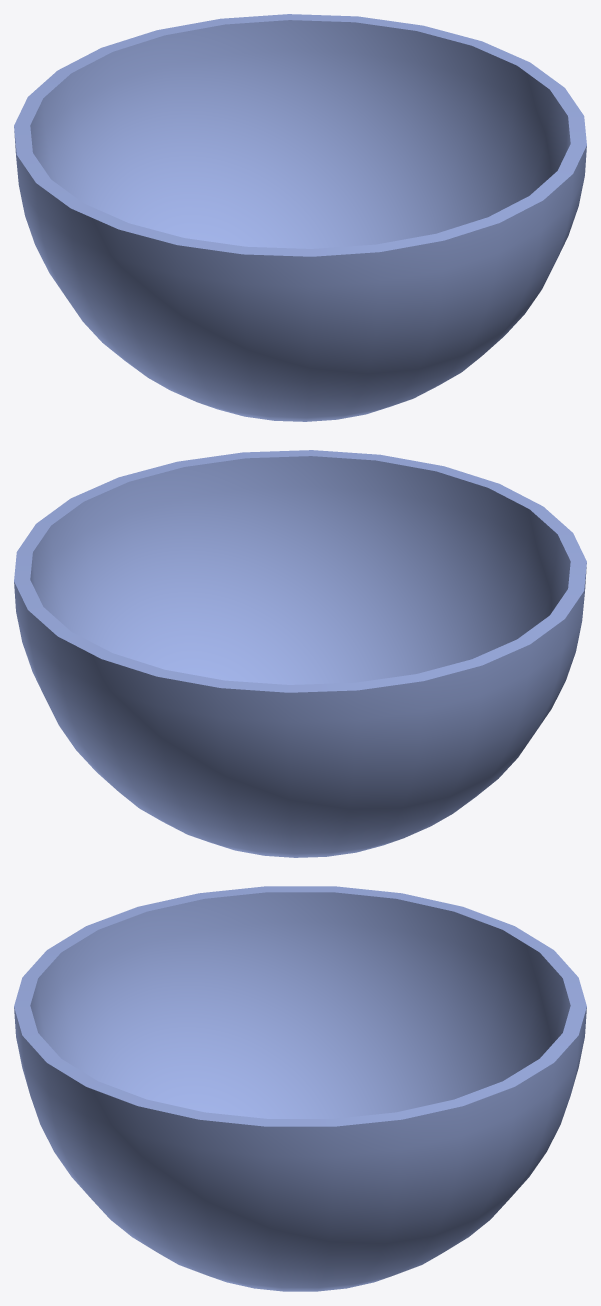
File: Sphere_background.fbx
The picture shows the model from 3 angles, top to bottom: view 1: azimuth 30°, elevation 25°; view 2: azimuth 150°, elevation 25°; view 3: azimuth 270°, elevation 25°; orthographic projection.
Visible parts, largest first — view 1: Sphere_background; view 2: Sphere_background; view 3: Sphere_background.
Boxes of the visible parts, x1,y1,x2,y2 form: Sphere_background: (14,14,586,421); Sphere_background: (14,450,586,857); Sphere_background: (14,886,586,1291).
Bounding box in the file's own units: 211 × 94.5 × 212.
